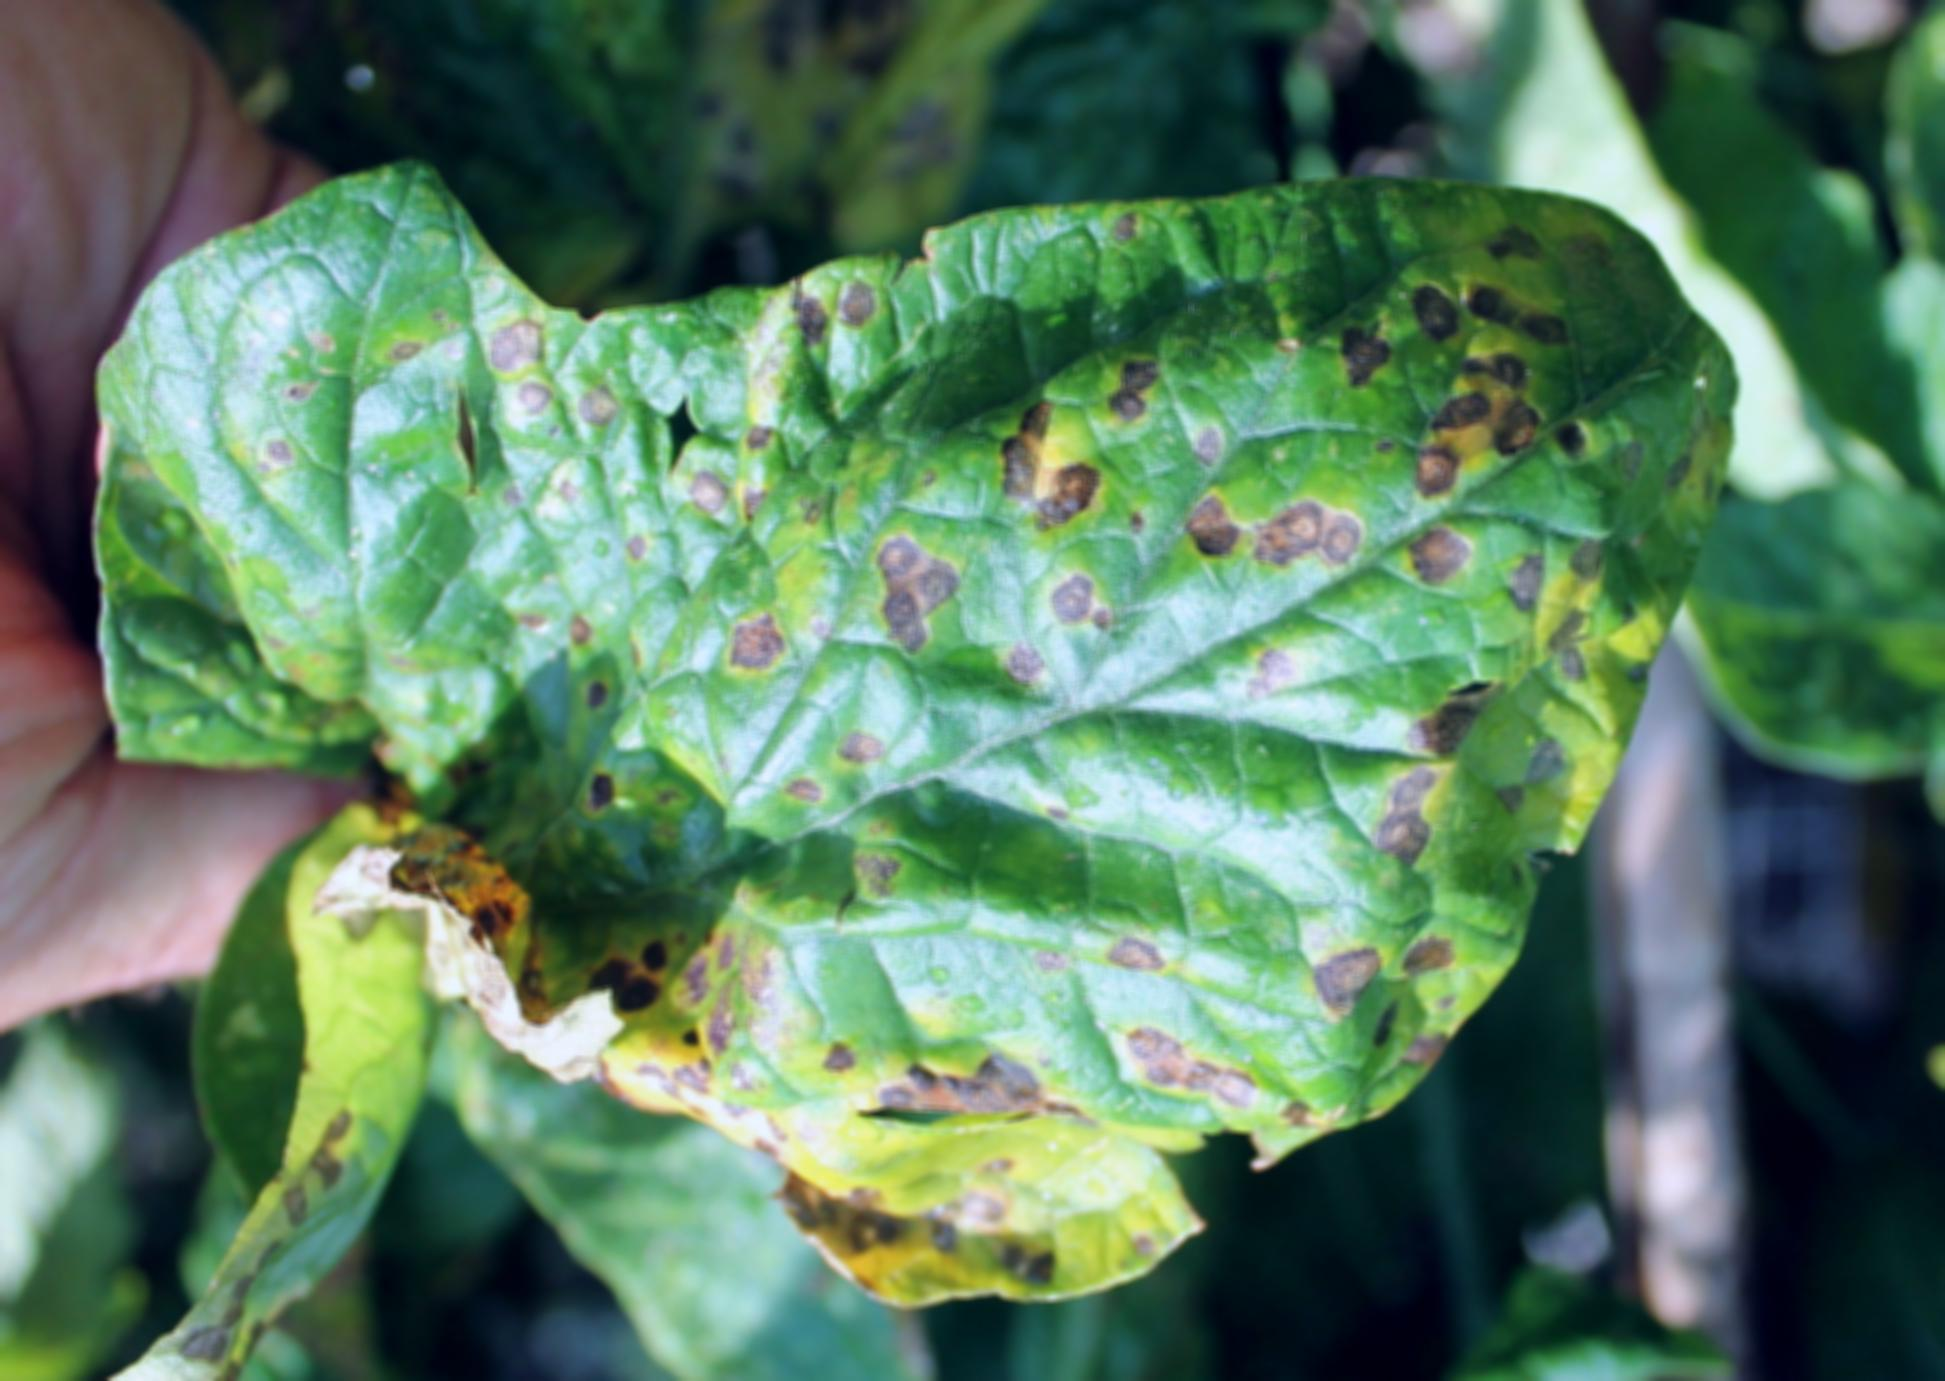Tomato Septoria leaf spot: (57, 99, 1781, 1314)
